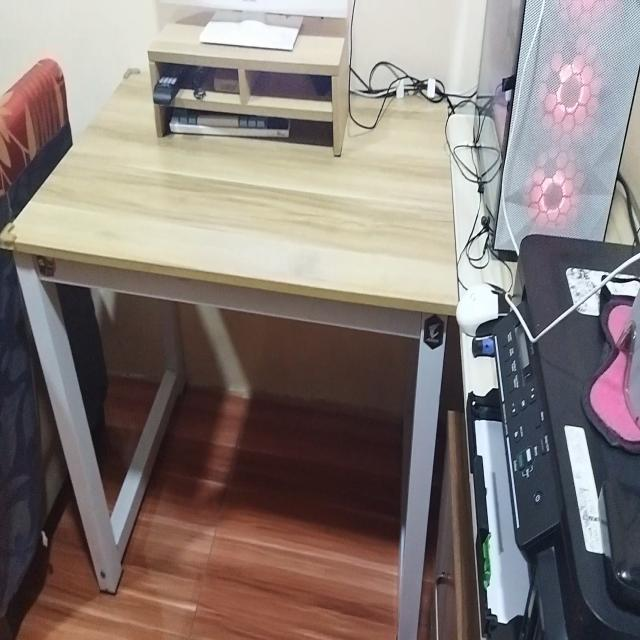table: (7, 46, 461, 640)
